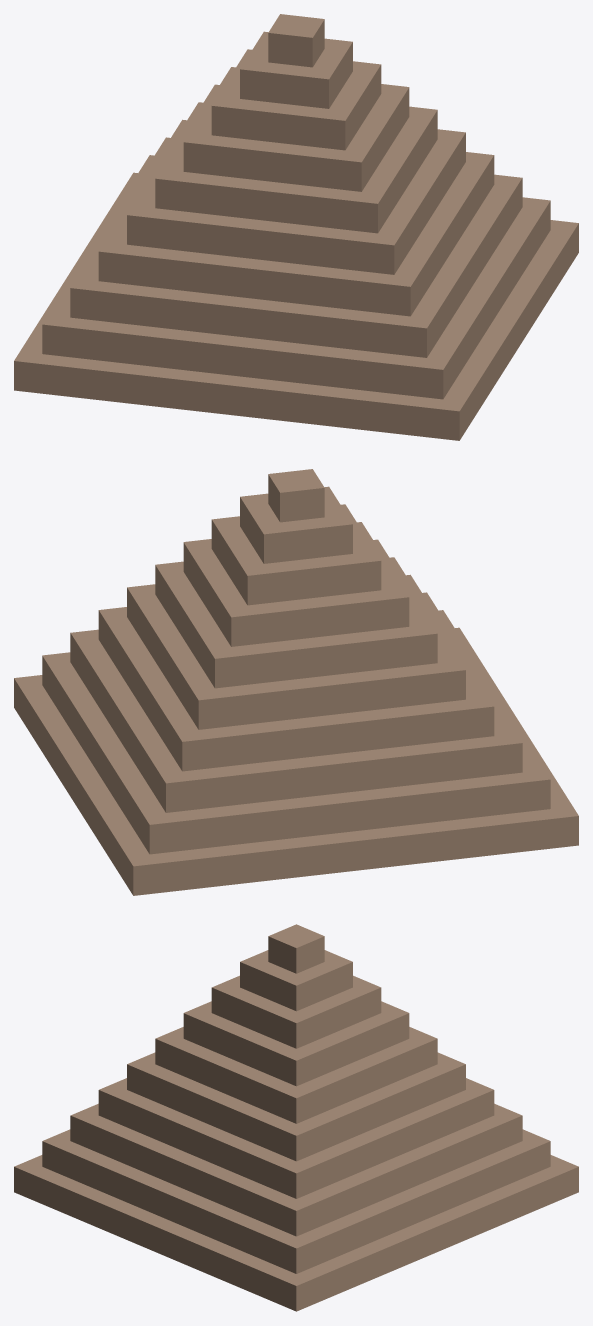
File: Ornament_Pyramid.glb
The picture shows the model from 3 angles, top to bottom: view 1: azimuth 30°, elevation 25°; view 2: azimuth 150°, elevation 25°; view 3: azimuth 270°, elevation 25°; orthographic projection. The views are drawn at different scales.
Parts seen in each view (by area): view 1: Pyramid; view 2: Pyramid; view 3: Pyramid.
Boxes of the visible parts, left/top/right/bottom form: Pyramid: left=14, top=14, right=578, bottom=440; Pyramid: left=14, top=469, right=578, bottom=895; Pyramid: left=14, top=924, right=578, bottom=1311.
Bounding box in the file's own units: 4.02 × 2.01 × 4.02.
